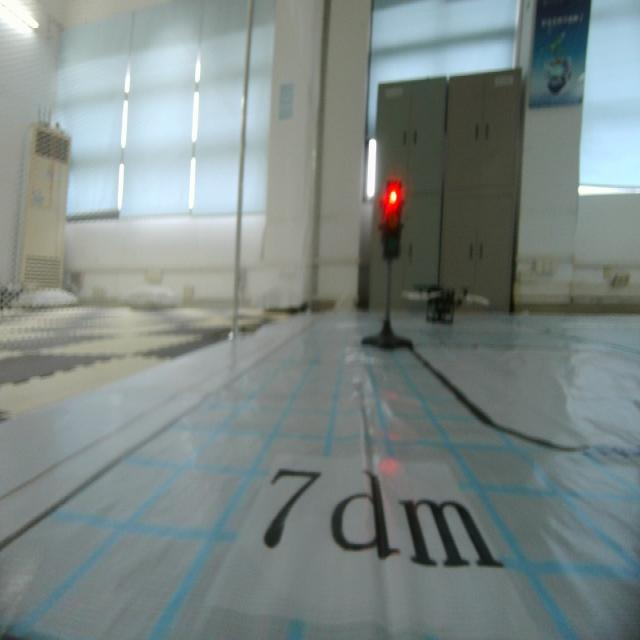red: (379, 178, 403, 264)
